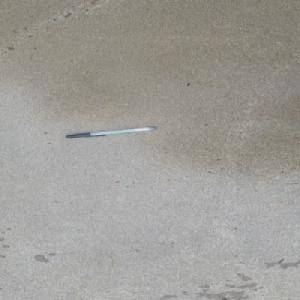Pen: (64, 125, 156, 138)
